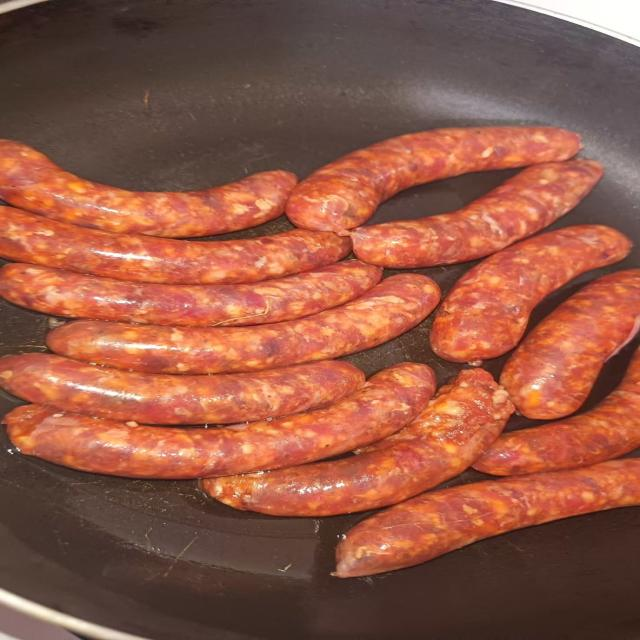sausage: (5, 363, 435, 479), (201, 369, 513, 516), (47, 274, 439, 373), (334, 459, 639, 577), (287, 127, 580, 234), (0, 140, 297, 237), (431, 225, 631, 362), (351, 160, 602, 268), (0, 207, 351, 284), (0, 354, 364, 424), (0, 261, 381, 326), (500, 270, 639, 419), (474, 351, 639, 475)
